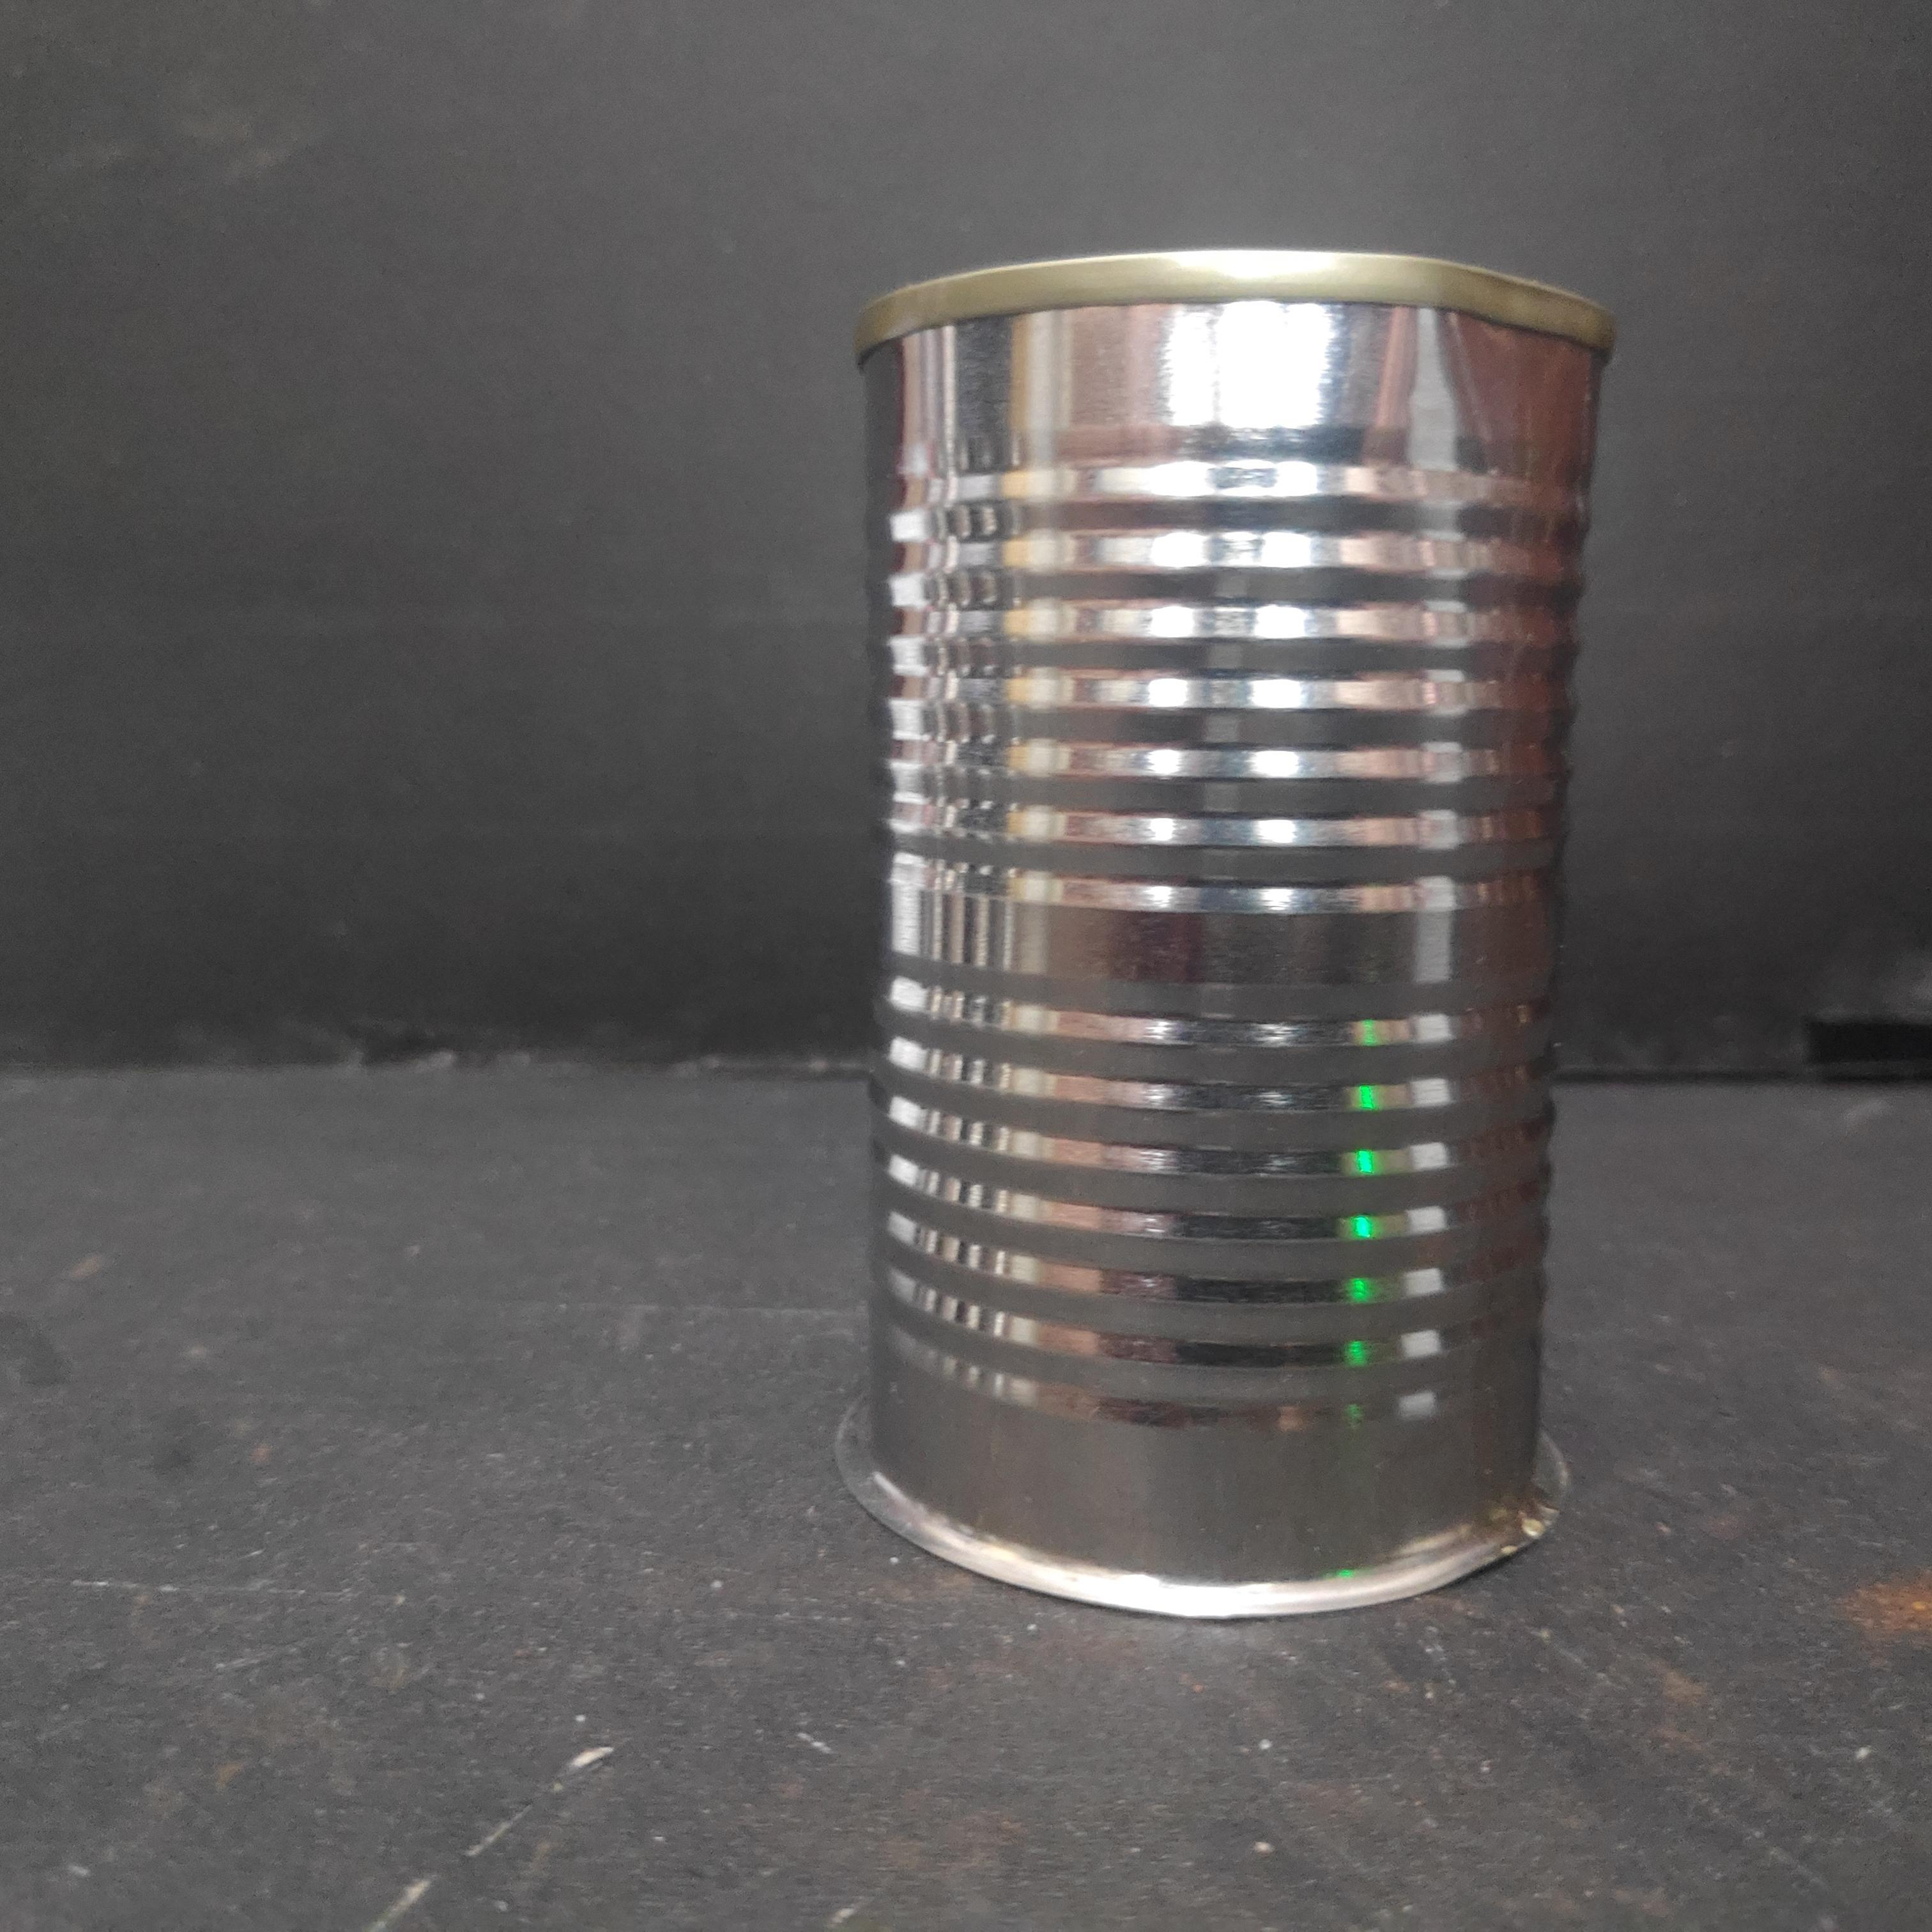Minor Defect: (841, 237, 1630, 1644)
